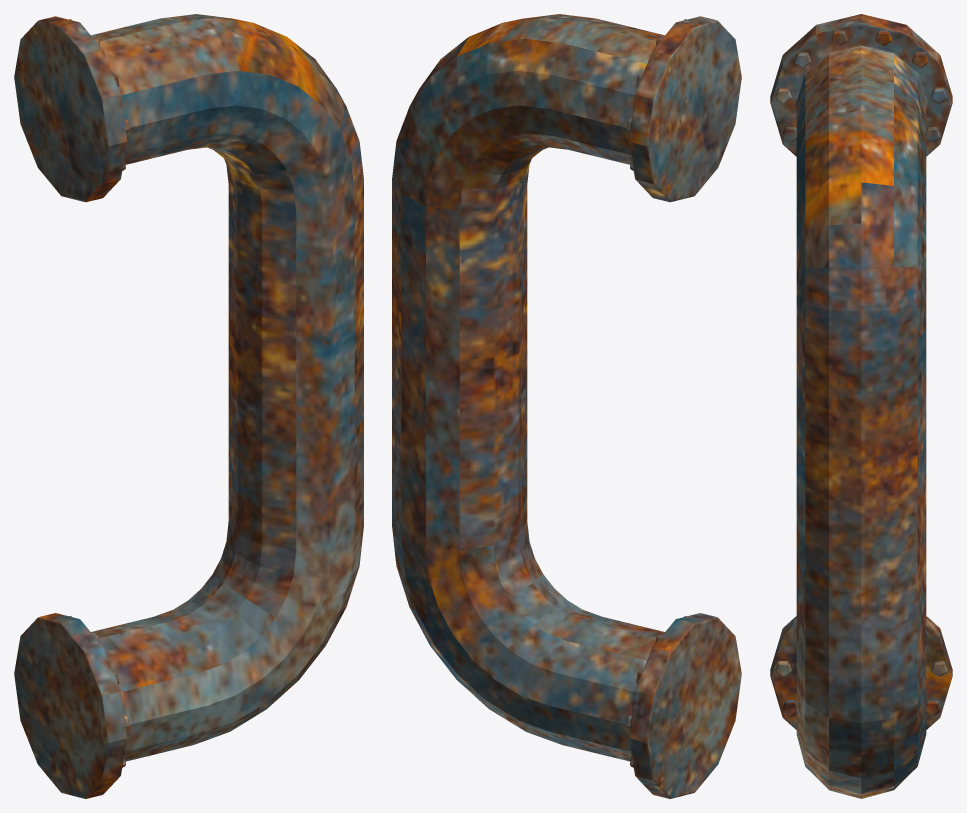
The model's file is pipe.07.fbx.
The picture shows the model from 3 angles, left to right: view 1: azimuth 30°, elevation 25°; view 2: azimuth 150°, elevation 25°; view 3: azimuth 270°, elevation 25°; orthographic projection. The views are drawn at different scales.
Visible parts, largest first — view 1: Pipe.07; view 2: Pipe.07; view 3: Pipe.07.
Part boxes in pixels (x1,y1,x2,y2): Pipe.07: [14, 14, 363, 798]; Pipe.07: [392, 14, 741, 798]; Pipe.07: [770, 14, 952, 798].
Size of the model in its own units: 100 by 250 by 55.99.
